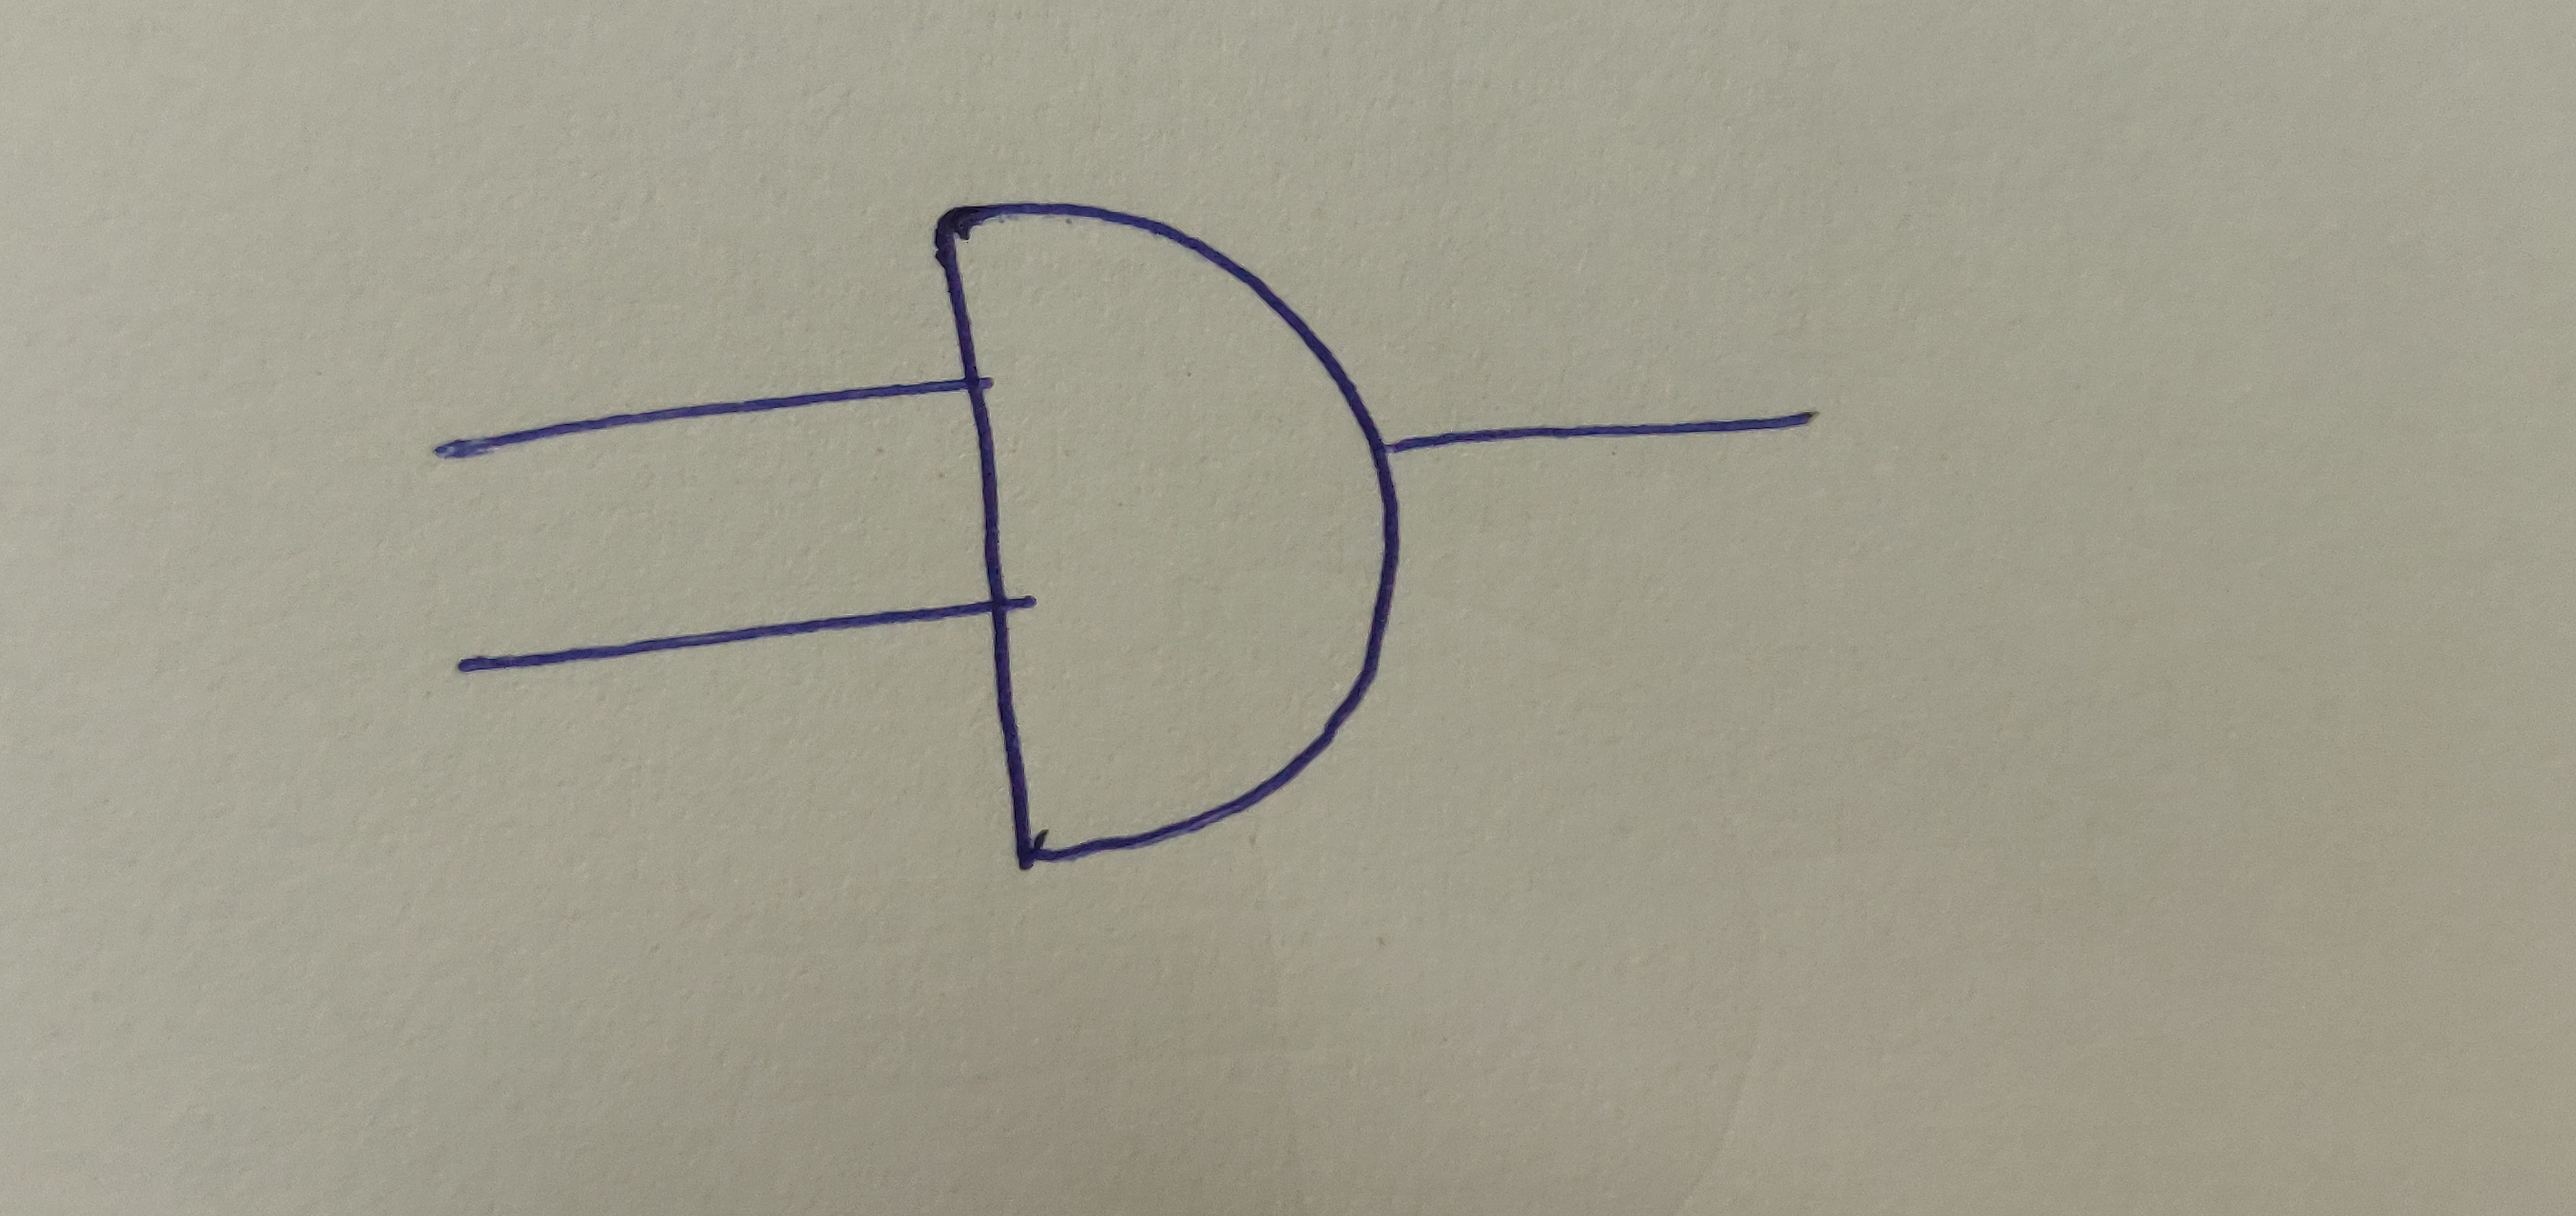and: (928, 194, 1411, 868)
